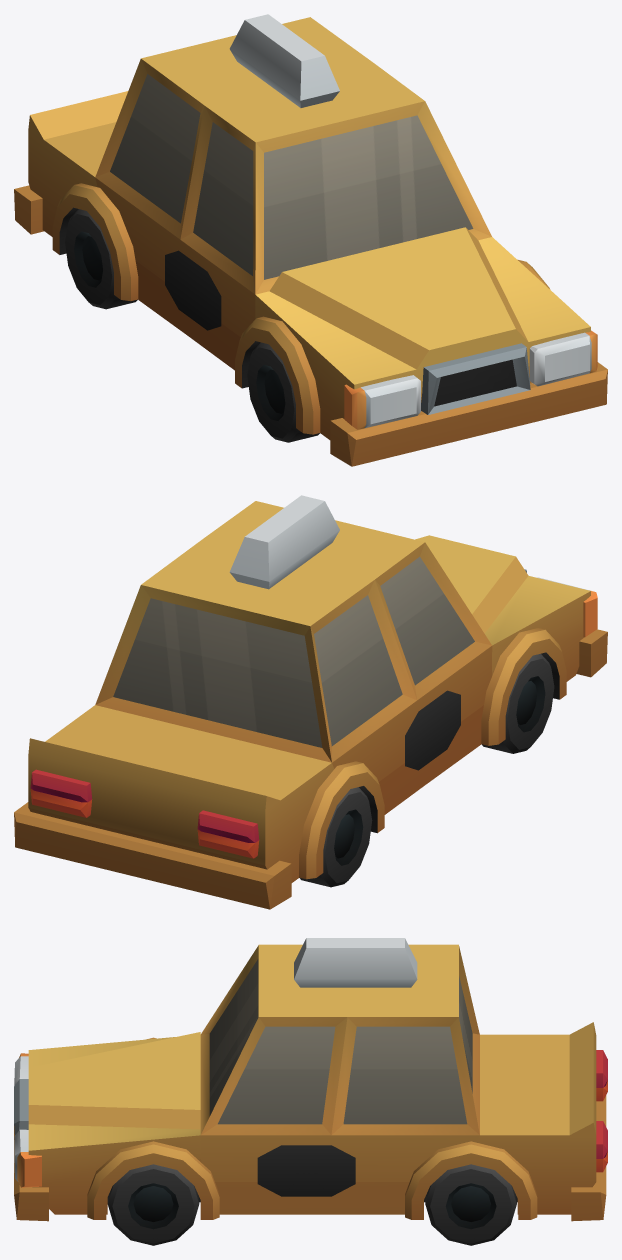
Rendered from car_taxi_edited.glb.
3 renders of one model, top to bottom at view 1: azimuth 30°, elevation 25°; view 2: azimuth 150°, elevation 25°; view 3: azimuth 270°, elevation 25°, orthographic. The views are drawn at different scales.
Visible parts, largest first — view 1: car_taxi, car_taxi_wheel_rear_right, car_taxi_wheel_front_right, car_taxi_headlight_right, car_taxi_headlight_left; view 2: car_taxi, car_taxi_wheel_front_right, car_taxi_wheel_rear_right; view 3: car_taxi, car_taxi_wheel_front_left, car_taxi_wheel_rear_left.
Part boxes in pixels (x1,y1,x2,y2): car_taxi: (14,14,607,466); car_taxi_wheel_rear_right: (65,209,137,309); car_taxi_wheel_front_right: (247,342,319,442); car_taxi_headlight_right: (361,375,420,427); car_taxi_headlight_left: (534,336,591,386); car_taxi: (14,495,607,909); car_taxi_wheel_front_right: (482,653,554,753); car_taxi_wheel_rear_right: (299,787,372,887); car_taxi: (14,938,607,1221); car_taxi_wheel_front_left: (107,1164,199,1245); car_taxi_wheel_rear_left: (425,1164,516,1245).
Bounding box in the file's own units: 0.419 × 0.4345 × 0.9381.
Materials: 1 (1 with a texture image).
